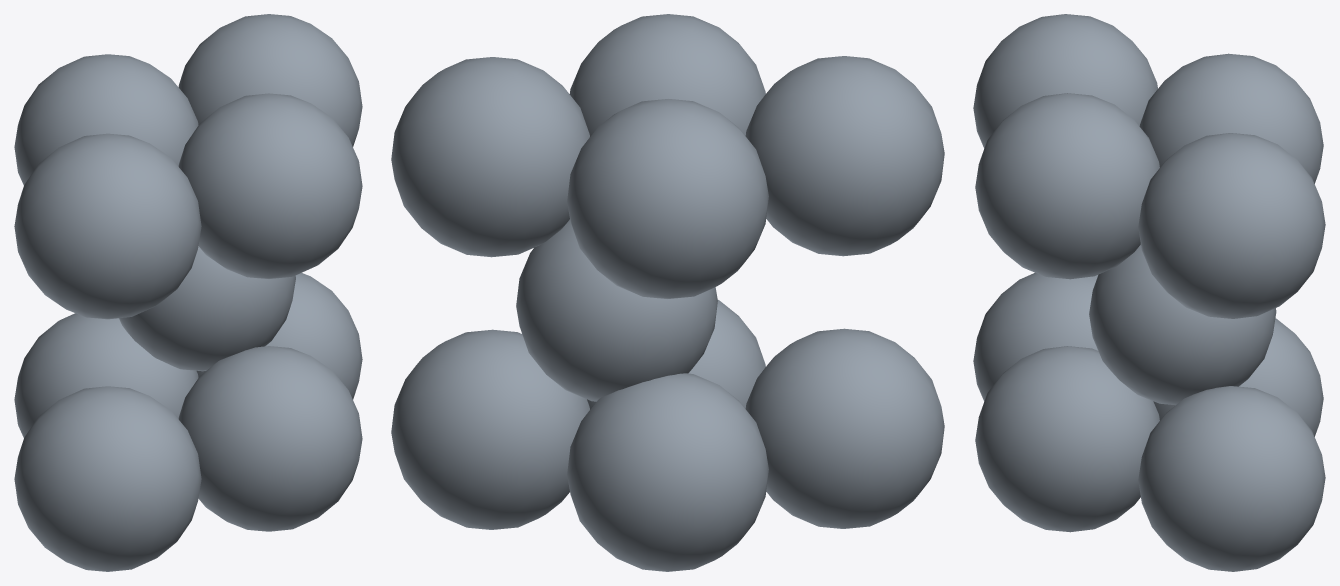
3 views of the same model, side by side, from view 1: azimuth 30°, elevation 25°; view 2: azimuth 150°, elevation 25°; view 3: azimuth 270°, elevation 25° (orthographic). The views are drawn at different scales.
Visible parts, largest first — view 1: 对象070; view 2: 对象070; view 3: 对象070.
Part boxes in pixels (<box>): 对象070: <box>14,14,362,571</box>; 对象070: <box>391,14,944,571</box>; 对象070: <box>973,14,1325,571</box>.
Bounding box in the file's own units: 100 × 99.56 × 75.17.
Materials: 1 (1 with a texture image).
